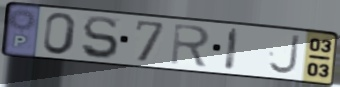0: (42, 11, 79, 57)
7: (134, 18, 167, 65)
I: (222, 26, 242, 73)
J: (267, 33, 302, 76)
R: (168, 22, 212, 69)
S: (80, 15, 121, 61)
